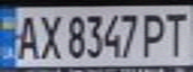3: (84, 11, 106, 60)
4: (103, 10, 124, 58)
7: (118, 10, 142, 58)
8: (63, 11, 87, 60)
A: (9, 11, 42, 61)
P: (139, 9, 172, 58)
T: (160, 8, 193, 59)
X: (33, 11, 63, 61)
